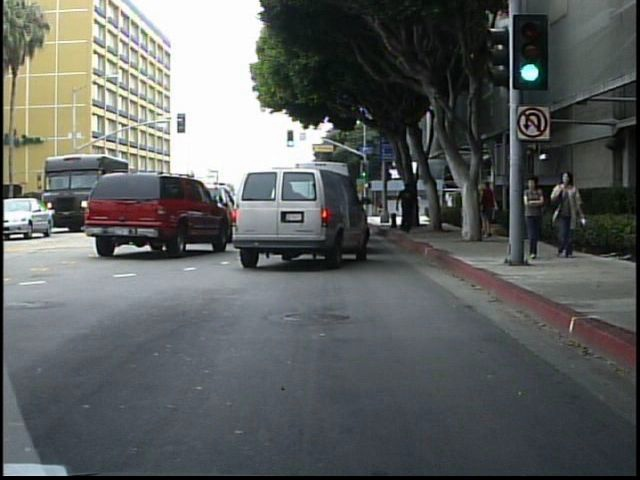person: (546, 170, 588, 264), (523, 172, 548, 267), (479, 173, 501, 243), (395, 181, 423, 236), (463, 175, 484, 247), (413, 185, 427, 222)
